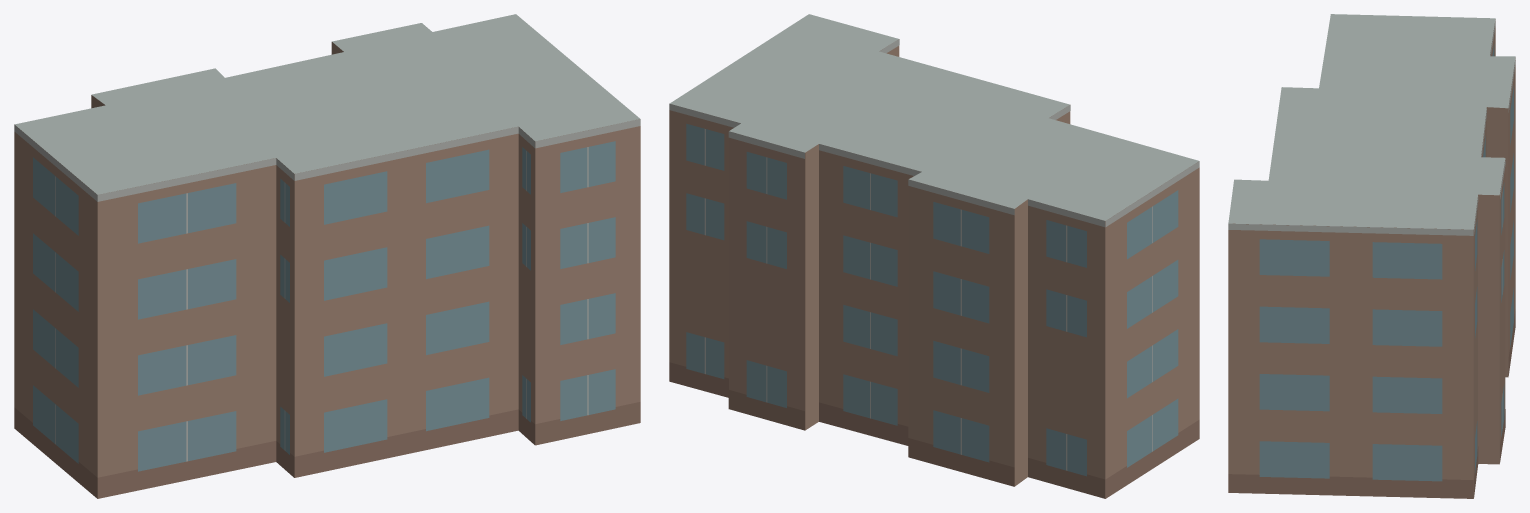
The model's file is survey-upis-33007377.glb.
3 views of the same model, side by side, from view 1: azimuth 30°, elevation 25°; view 2: azimuth 150°, elevation 25°; view 3: azimuth 270°, elevation 25° (orthographic). The views are drawn at different scales.
Parts seen in each view (by area): view 1: survey-upis-33007377.tmp; view 2: survey-upis-33007377.tmp; view 3: survey-upis-33007377.tmp.
Part boxes in pixels (<box>): survey-upis-33007377.tmp: <box>14,14,640,498</box>; survey-upis-33007377.tmp: <box>669,14,1199,498</box>; survey-upis-33007377.tmp: <box>1228,14,1515,498</box>.
Bounding box in the file's own units: 18.14 × 10.55 × 10.22.
